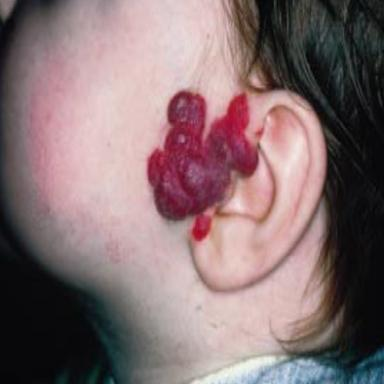Hemangiome: (148, 91, 258, 240)
